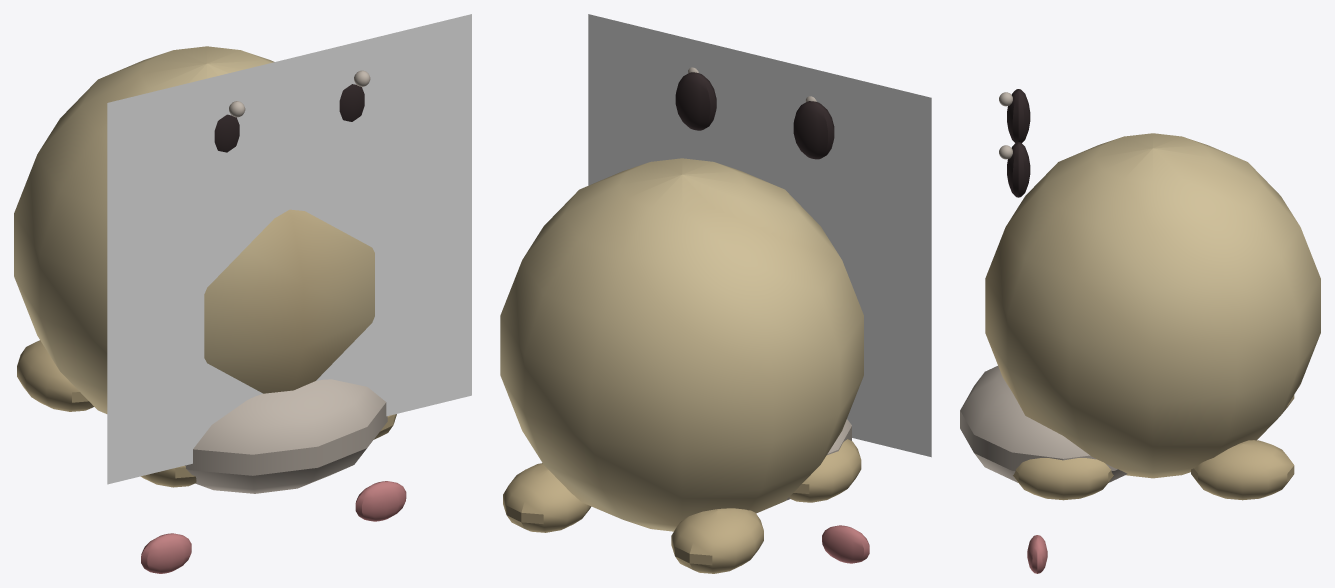
The picture shows the model from 3 angles, left to right: view 1: azimuth 30°, elevation 25°; view 2: azimuth 150°, elevation 25°; view 3: azimuth 270°, elevation 25°; orthographic projection. The views are drawn at different scales.
Parts seen in each view (by area): view 1: pet_p79249dd3; view 2: pet_p79249dd3; view 3: pet_p79249dd3.
Part boxes in pixels (bbox=[...]): pet_p79249dd3: bbox=[14, 14, 471, 573]; pet_p79249dd3: bbox=[500, 14, 931, 573]; pet_p79249dd3: bbox=[960, 89, 1320, 573].
Size of the model in its own units: 0.408 by 0.5342 by 0.4023.
